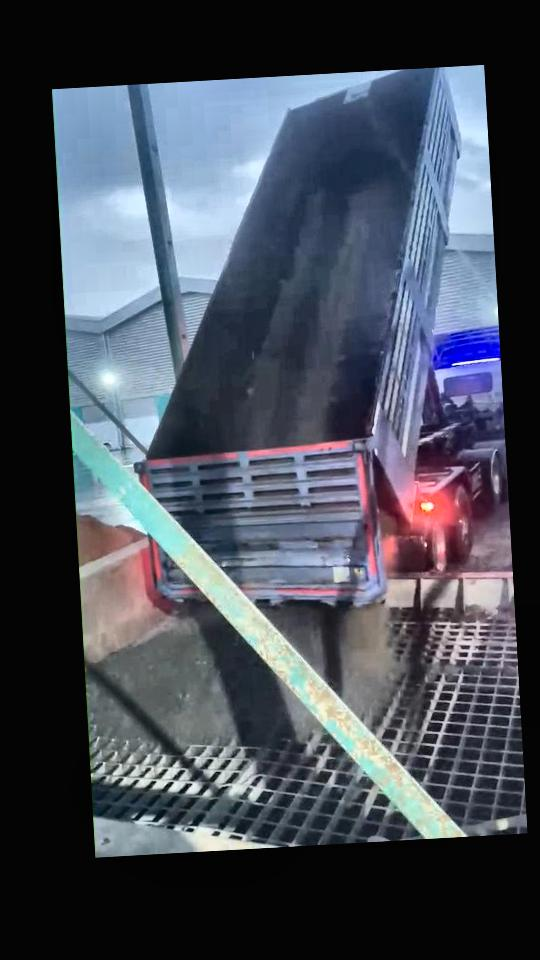gravel: (104, 597, 318, 748), (258, 601, 398, 717), (91, 676, 150, 739), (426, 663, 517, 677), (462, 605, 496, 621)
sand: (78, 513, 147, 568)
